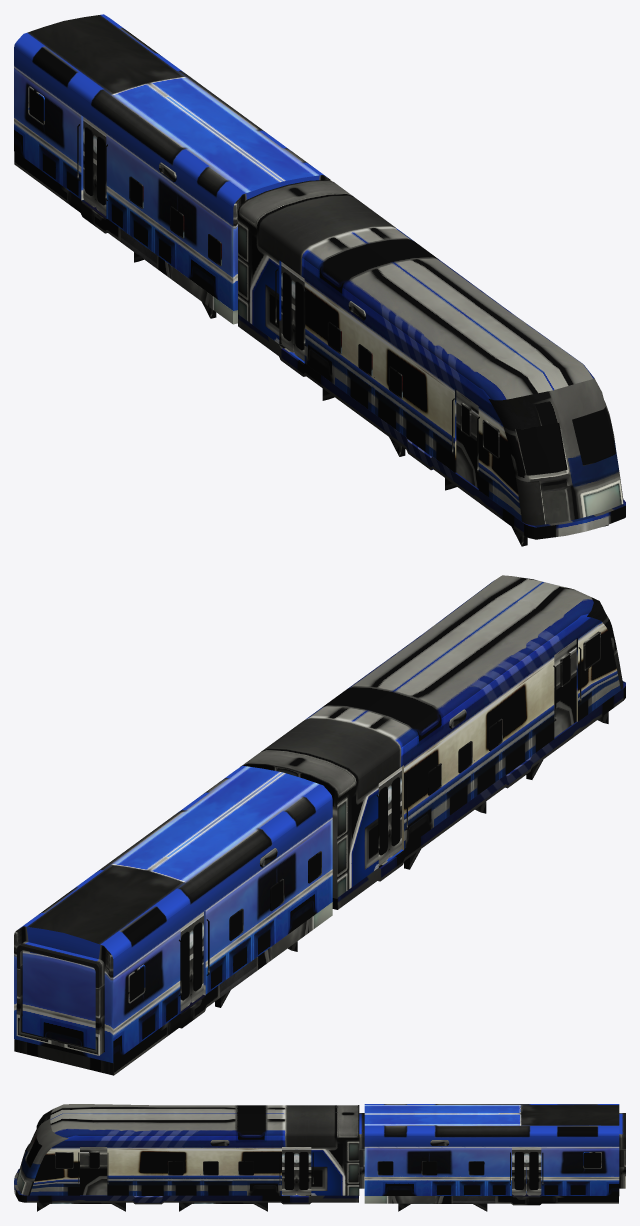
File: Train_2_Model.fbx
3 renders of one model, top to bottom at view 1: azimuth 30°, elevation 25°; view 2: azimuth 150°, elevation 25°; view 3: azimuth 270°, elevation 25°, orthographic. The views are drawn at different scales.
Visible parts, largest first — view 1: Train_Engine, compartment, Door2, Door3; view 2: Train_Engine, compartment, Door3, Door2; view 3: Train_Engine, compartment, Door1, Door.
Boxes of the visible parts, x1,y1,x2,y2 form: Train_Engine: (238, 180, 625, 546); compartment: (14, 14, 331, 324); Door2: (83, 117, 95, 207); Door3: (95, 126, 106, 215); Train_Engine: (240, 575, 625, 909); compartment: (14, 765, 332, 1075); Door3: (191, 912, 203, 1002); Door2: (180, 921, 190, 1011); Train_Engine: (14, 1104, 364, 1211); compartment: (364, 1104, 625, 1211); Door1: (526, 1147, 541, 1195); Door: (512, 1147, 526, 1195).
Bounding box in the file's own units: 35.27 × 47.75 × 308.
